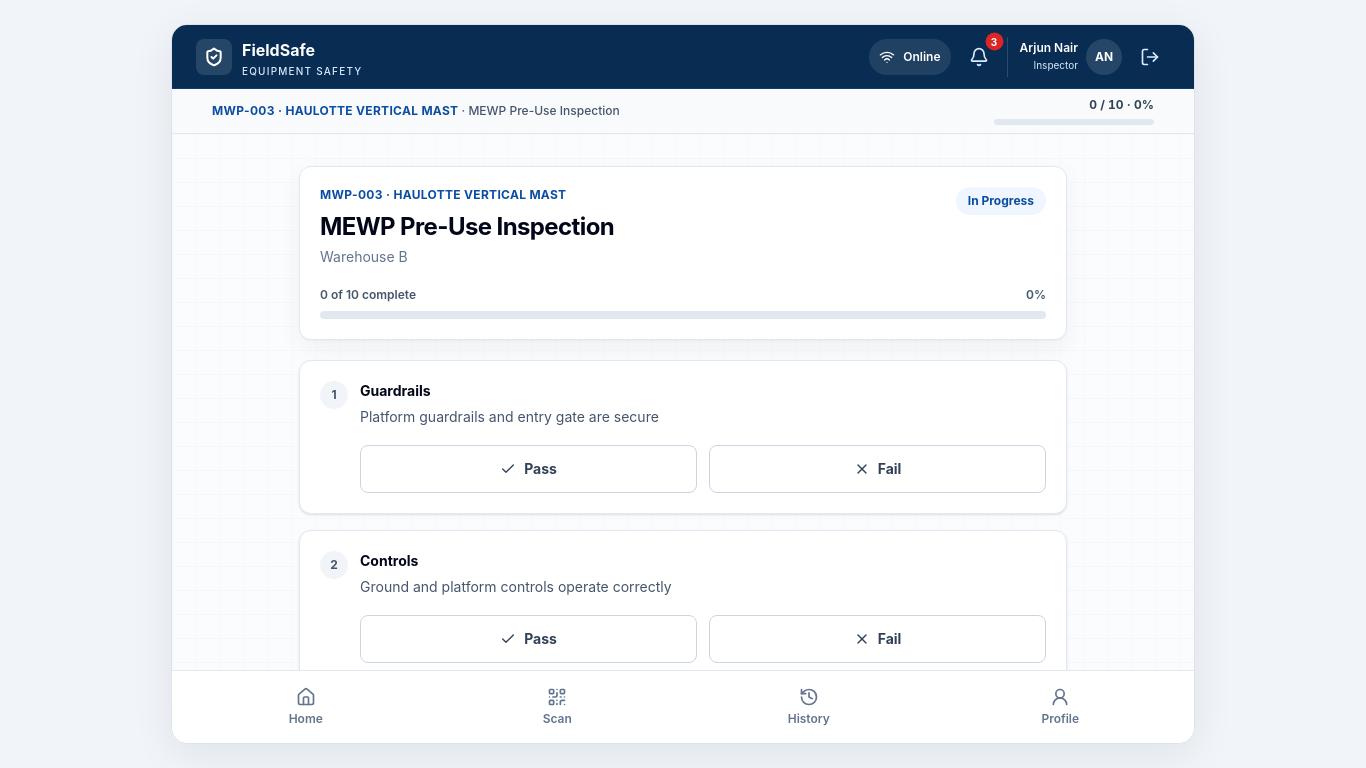
Test: Inspector sticky checklist context › preserves the main summary and updates compact context from shared progress
Expected: the element with test id "inspection-main-summary" is shown, x1=299 y1=166 x2=1067 y2=340
Expected: the element with test id "sticky-inspection-context" shows "MWP-003 · Haulotte Vertical Mast", x1=172 y1=89 x2=1194 y2=134
Click the 1st button "Pass" at (528, 469), box x1=360 y1=445 x2=697 y2=493
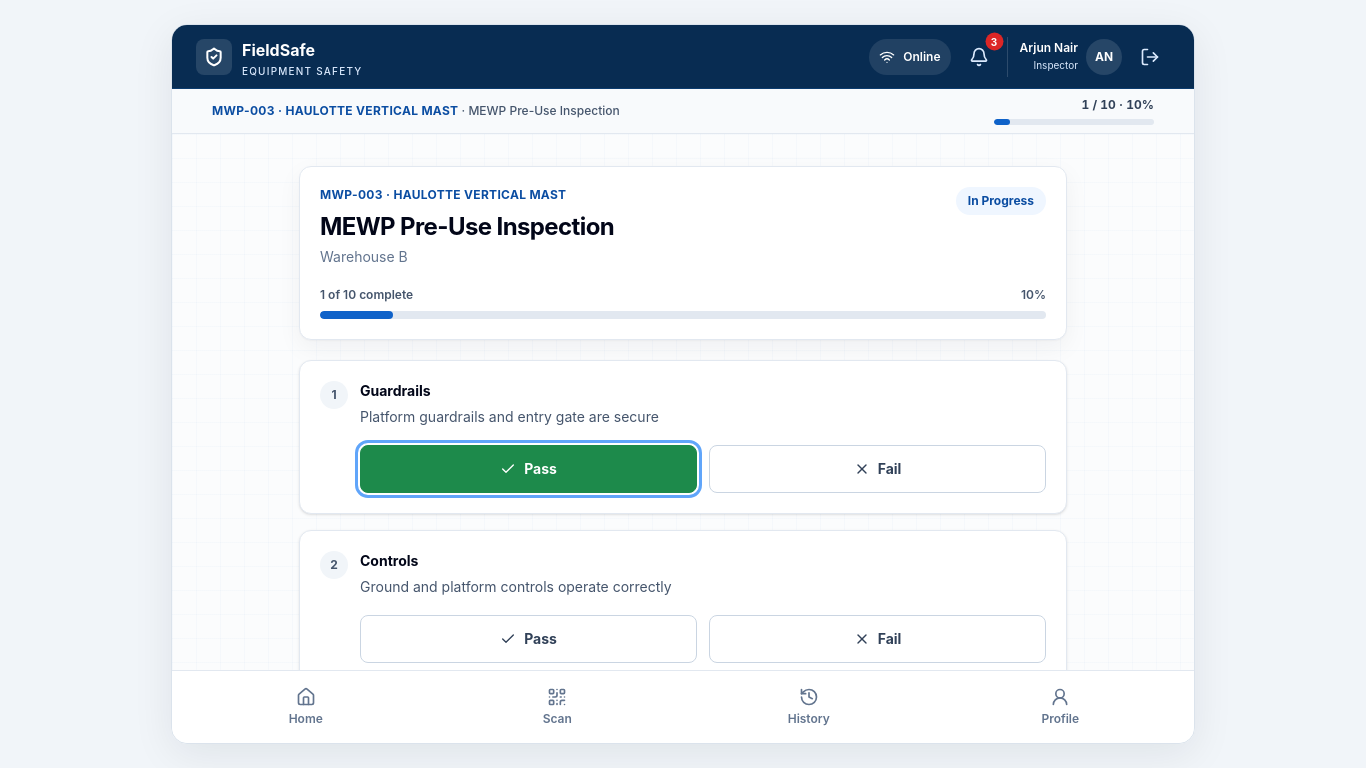
Expected: the element with test id "inspection-main-summary" is shown, x1=299 y1=166 x2=1067 y2=340
Expected: the element with test id "sticky-inspection-context" shows "1 / 10 · 10%", x1=172 y1=89 x2=1194 y2=134
